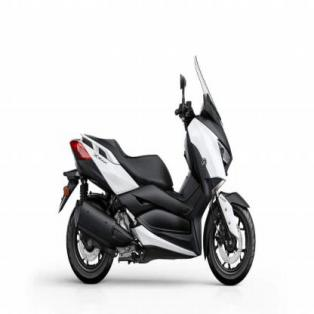Motocicleta: (55, 54, 258, 288)
